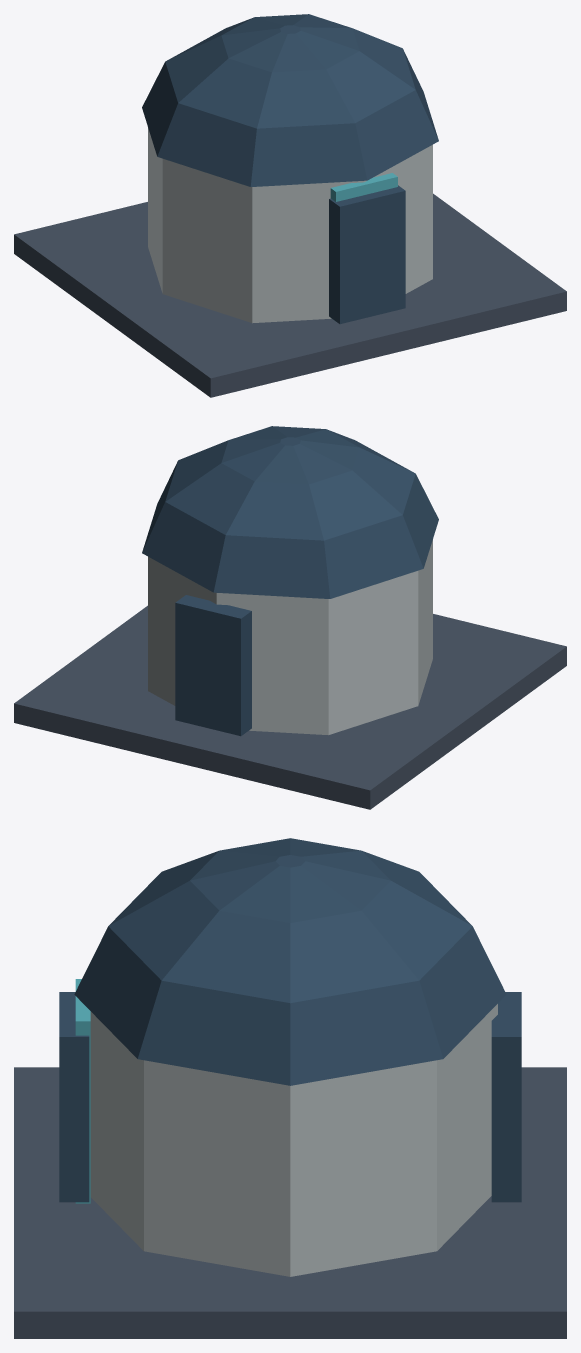
The model's file is SpaceStation_Observatory_Simple.glb.
The picture shows the model from 3 angles, top to bottom: view 1: azimuth 30°, elevation 25°; view 2: azimuth 150°, elevation 25°; view 3: azimuth 270°, elevation 25°; orthographic projection. The views are drawn at different scales.
Visible parts, largest first — view 1: SpaceStation_Observatory_Simple; view 2: SpaceStation_Observatory_Simple; view 3: SpaceStation_Observatory_Simple.
Part boxes in pixels (bbox=[...]): SpaceStation_Observatory_Simple: bbox=[14, 14, 566, 397]; SpaceStation_Observatory_Simple: bbox=[14, 426, 566, 809]; SpaceStation_Observatory_Simple: bbox=[14, 838, 566, 1338].
Bounding box in the file's own units: 4.6 × 3.12 × 4.4.
